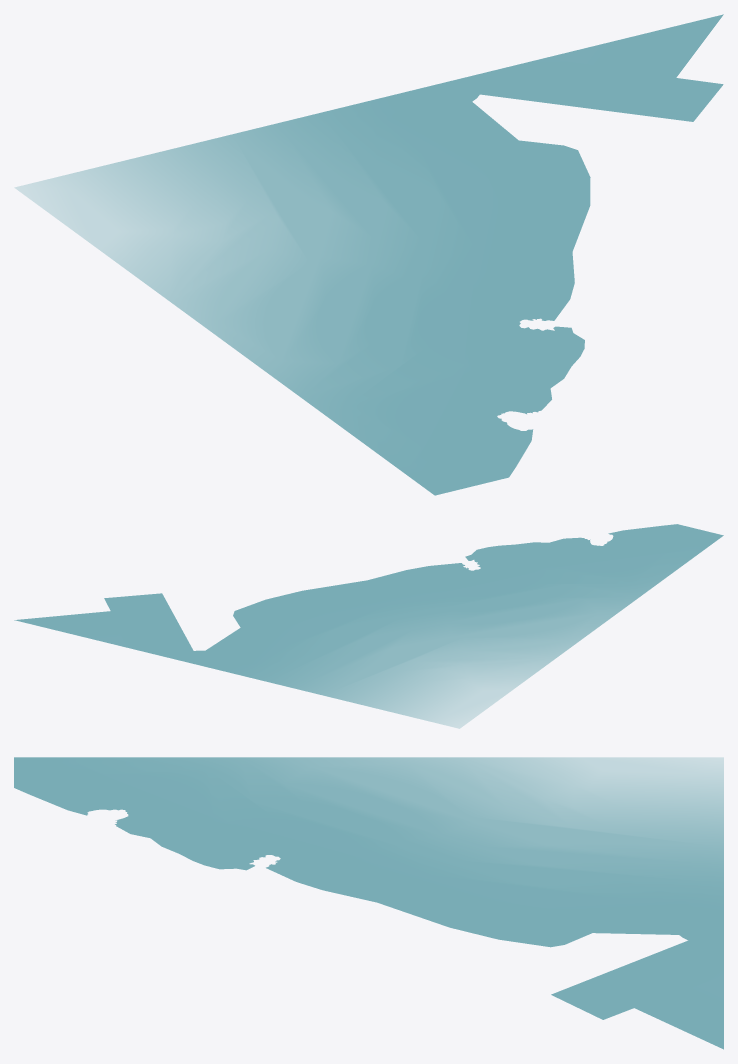
The picture shows the model from 3 angles, top to bottom: view 1: azimuth 30°, elevation 25°; view 2: azimuth 150°, elevation 25°; view 3: azimuth 270°, elevation 25°; orthographic projection. The views are drawn at different scales.
Parts seen in each view (by area): view 1: city; view 2: city; view 3: city.
Boxes of the visible parts, x1,y1,x2,y2 form: city: (15,14,723,495); city: (14,524,723,728); city: (14,757,723,1049).
Bounding box in the file's own units: 487 × 0 × 500.
